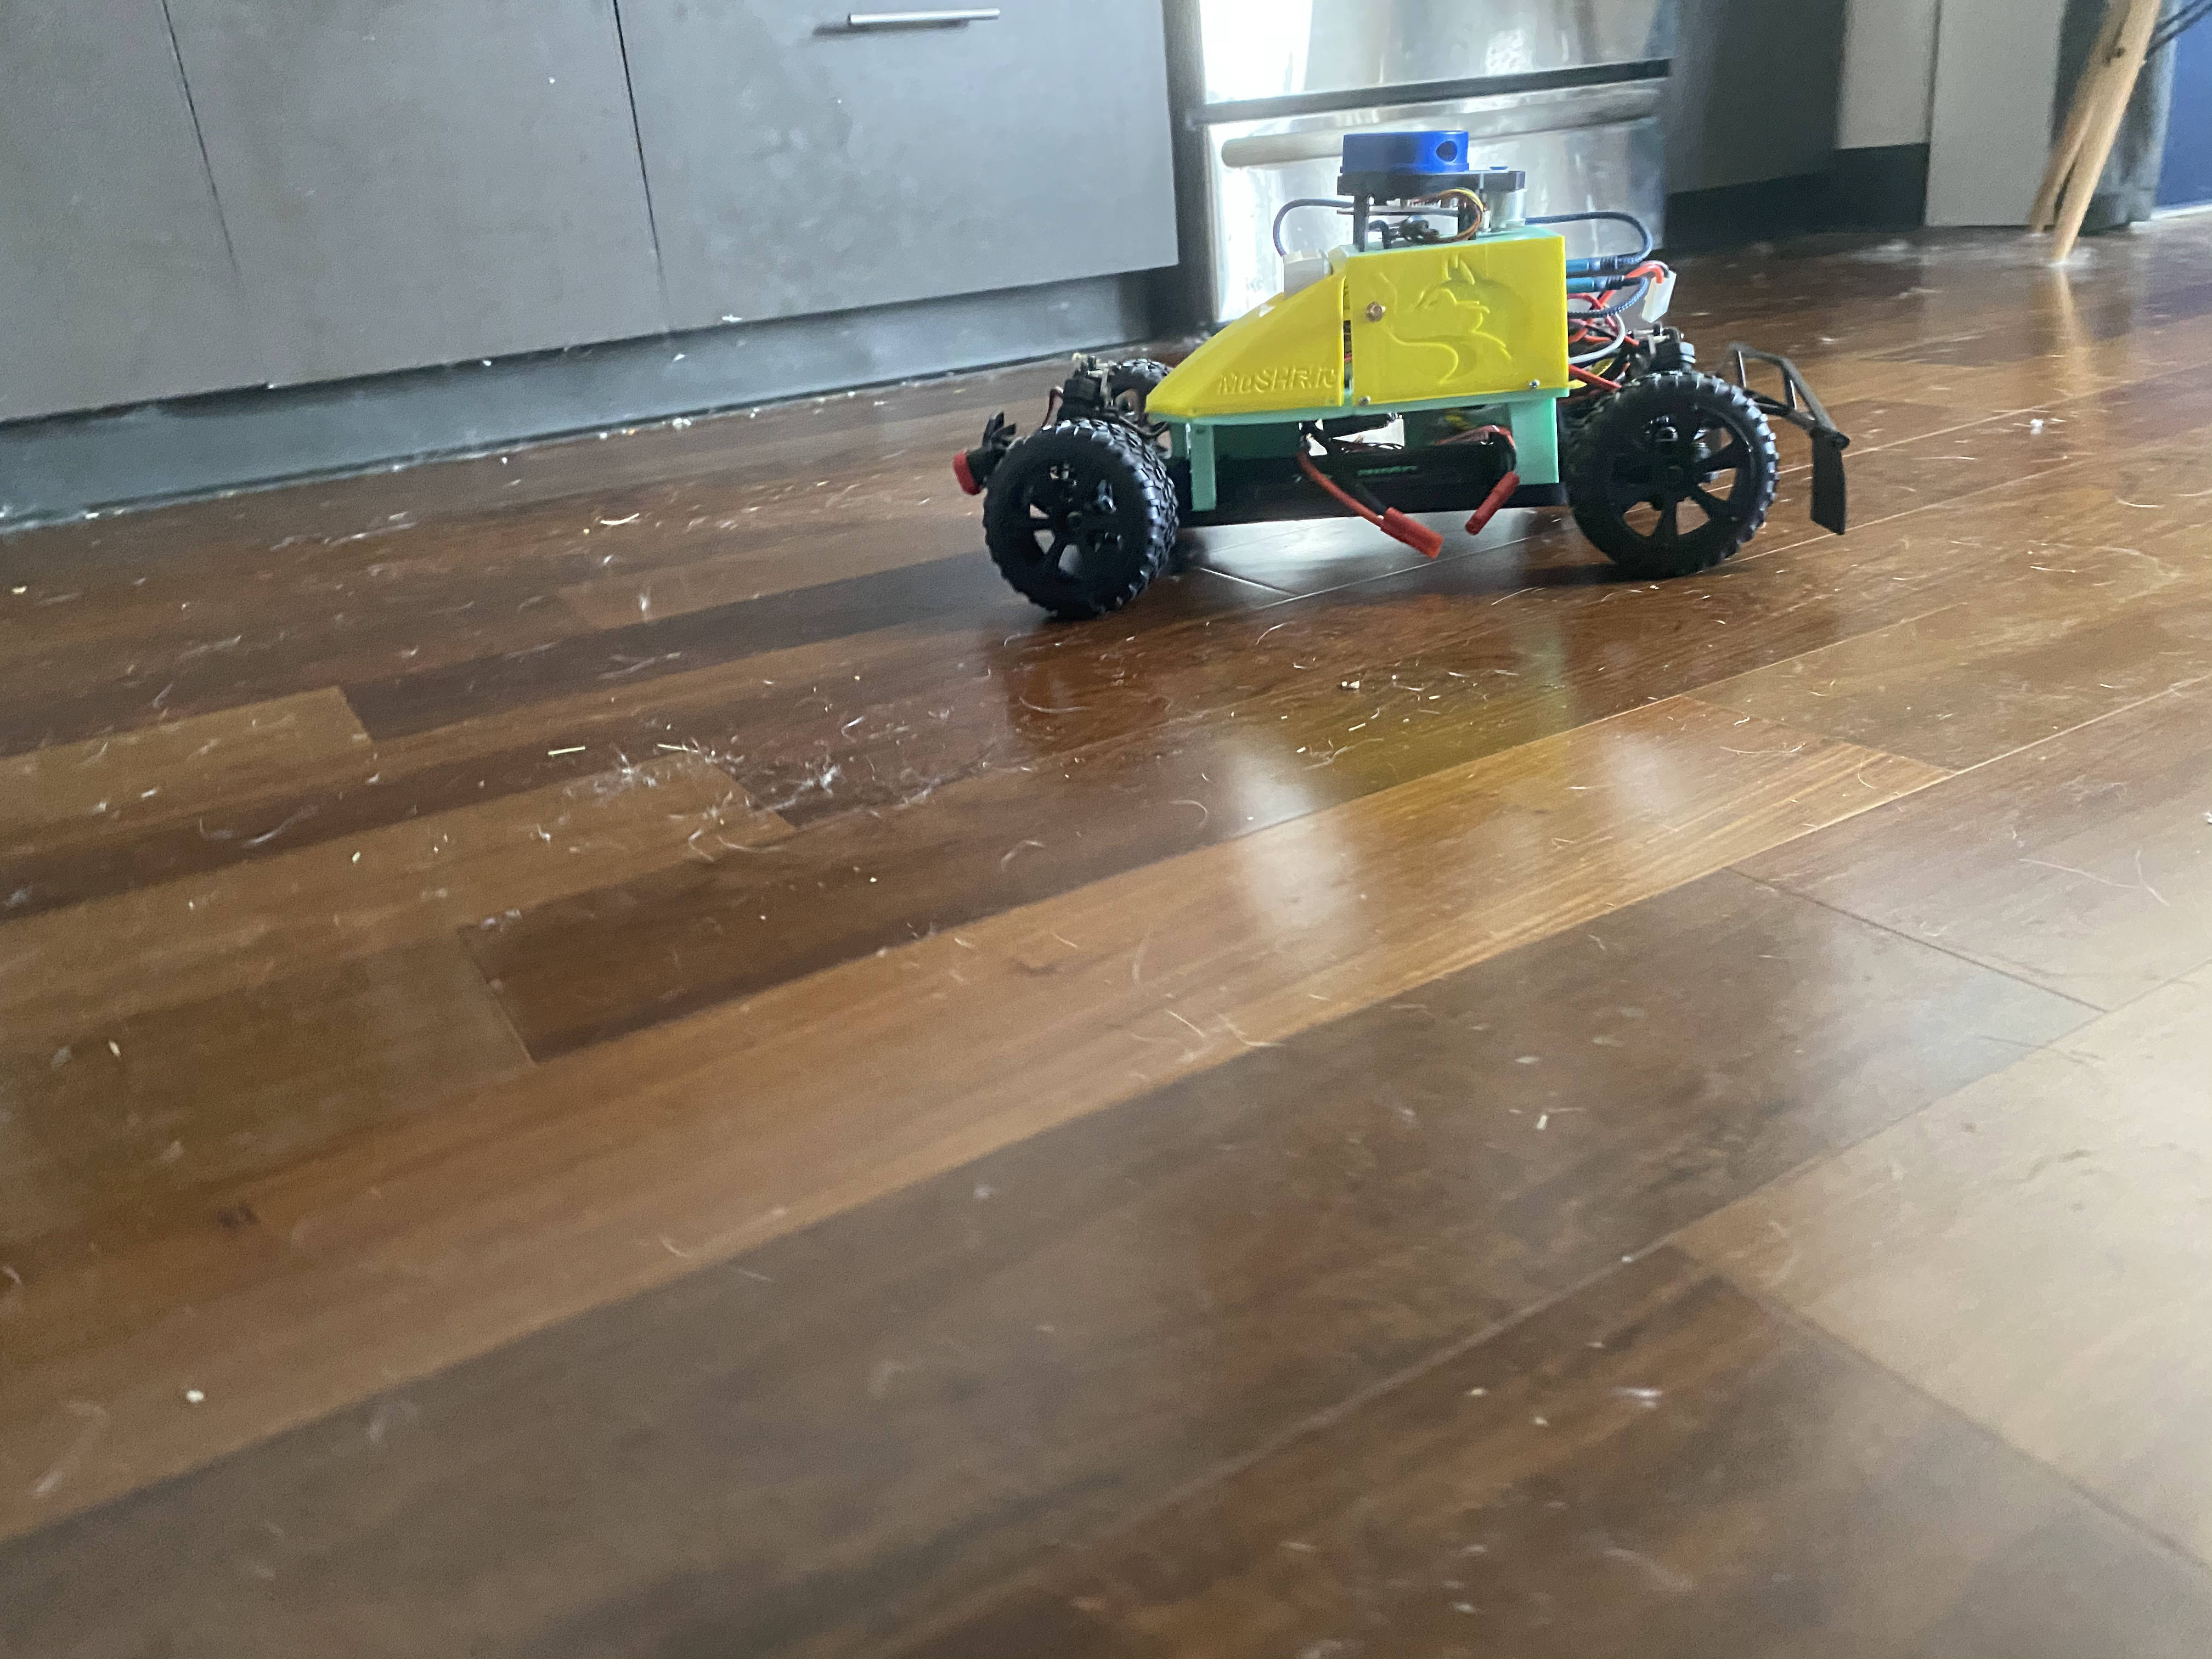mushr_car: (951, 120, 1876, 624)
